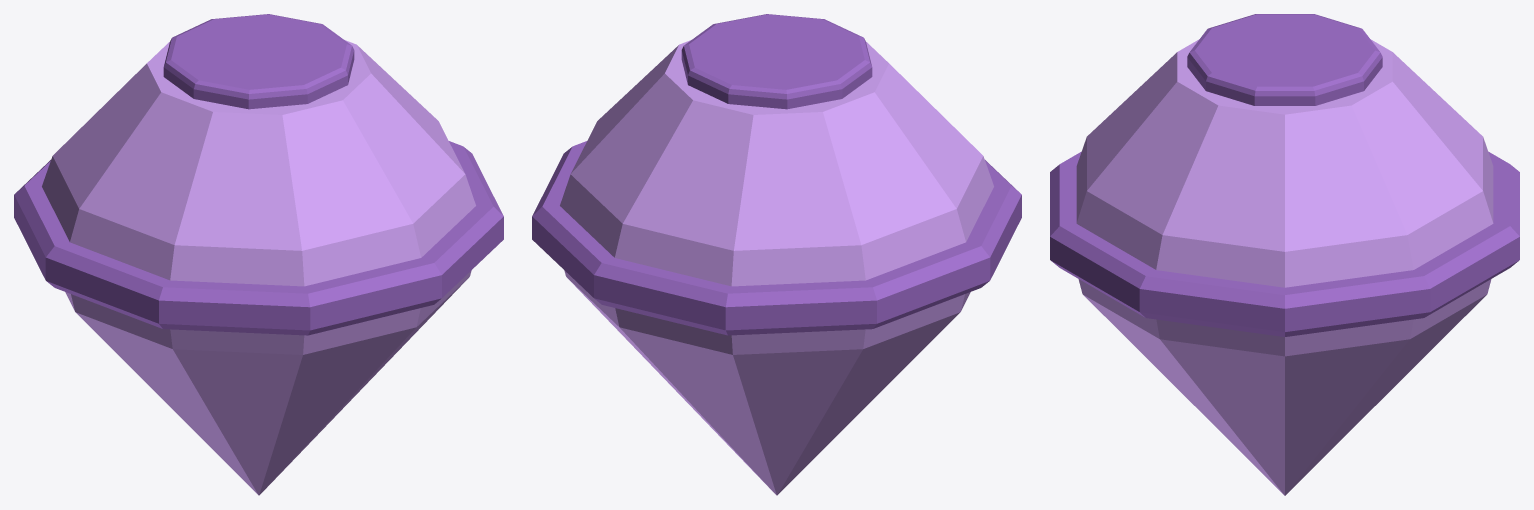
File: game-ui-icon-library-gem-round-epic-4ebab125__18971.glb
The picture shows the model from 3 angles, left to right: view 1: azimuth 30°, elevation 25°; view 2: azimuth 150°, elevation 25°; view 3: azimuth 270°, elevation 25°; orthographic projection.
Visible parts, largest first — view 1: gem-round-epic; view 2: gem-round-epic; view 3: gem-round-epic.
Part boxes in pixels (left/top/right/bottom): gem-round-epic: left=14, top=14, right=503, bottom=495; gem-round-epic: left=532, top=14, right=1021, bottom=495; gem-round-epic: left=1050, top=14, right=1519, bottom=495.
Bounding box in the file's own units: 0.8412 × 0.8368 × 0.8.
